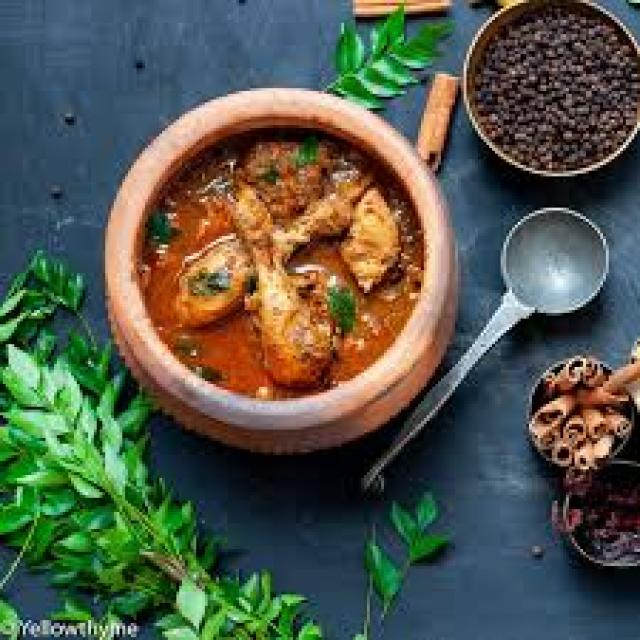Frango: (134, 125, 418, 387)
